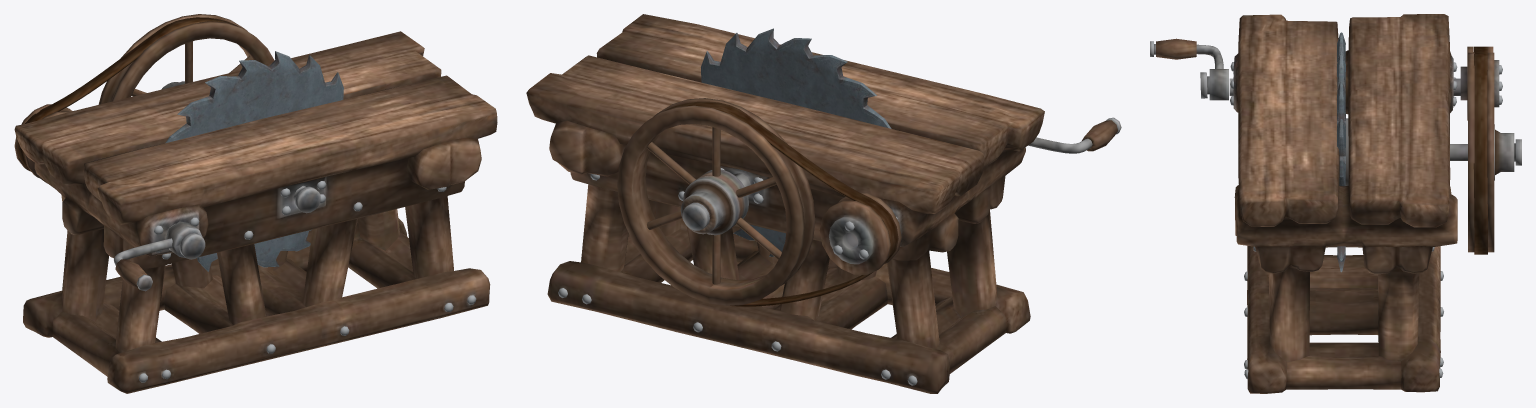
Rendered from table_saw.glb.
The picture shows the model from 3 angles, left to right: view 1: azimuth 30°, elevation 25°; view 2: azimuth 150°, elevation 25°; view 3: azimuth 270°, elevation 25°; orthographic projection. The views are drawn at different scales.
Visible parts, largest first — view 1: npc_props_table_saw_01; view 2: npc_props_table_saw_01; view 3: npc_props_table_saw_01.
Part boxes in pixels (x1,y1,x2,y2): npc_props_table_saw_01: (14,14,497,393); npc_props_table_saw_01: (526,14,1121,393); npc_props_table_saw_01: (1150,14,1521,393).
Size of the model in its own units: 2.27 by 1.38 by 1.77.
Materials: 2 (2 with a texture image).
